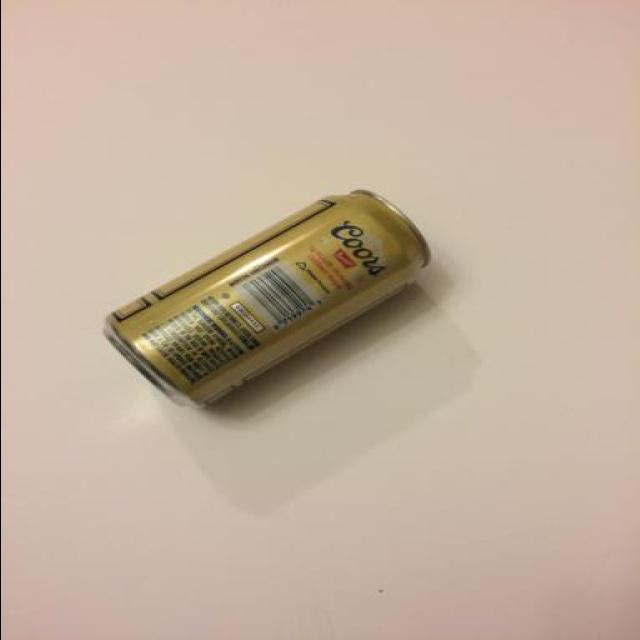Aluminum Can: (98, 186, 430, 412)
